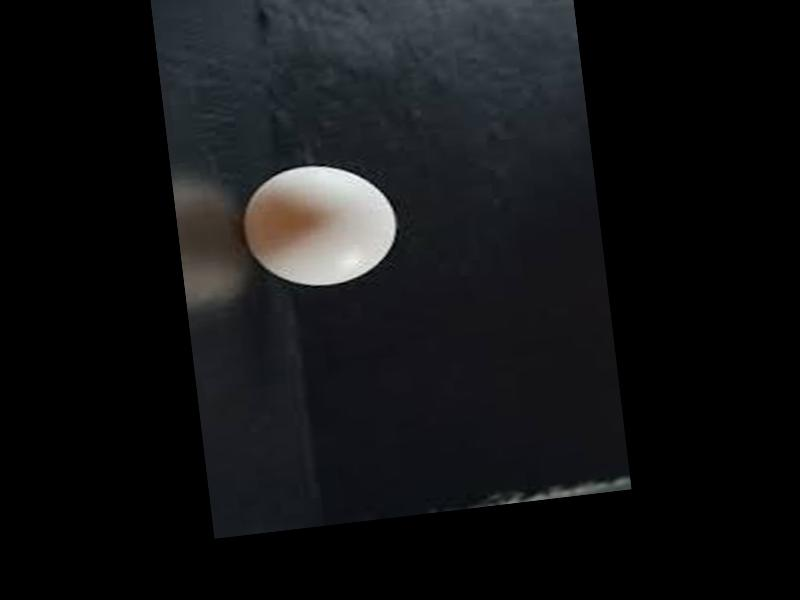Eggs: (238, 156, 405, 293)
